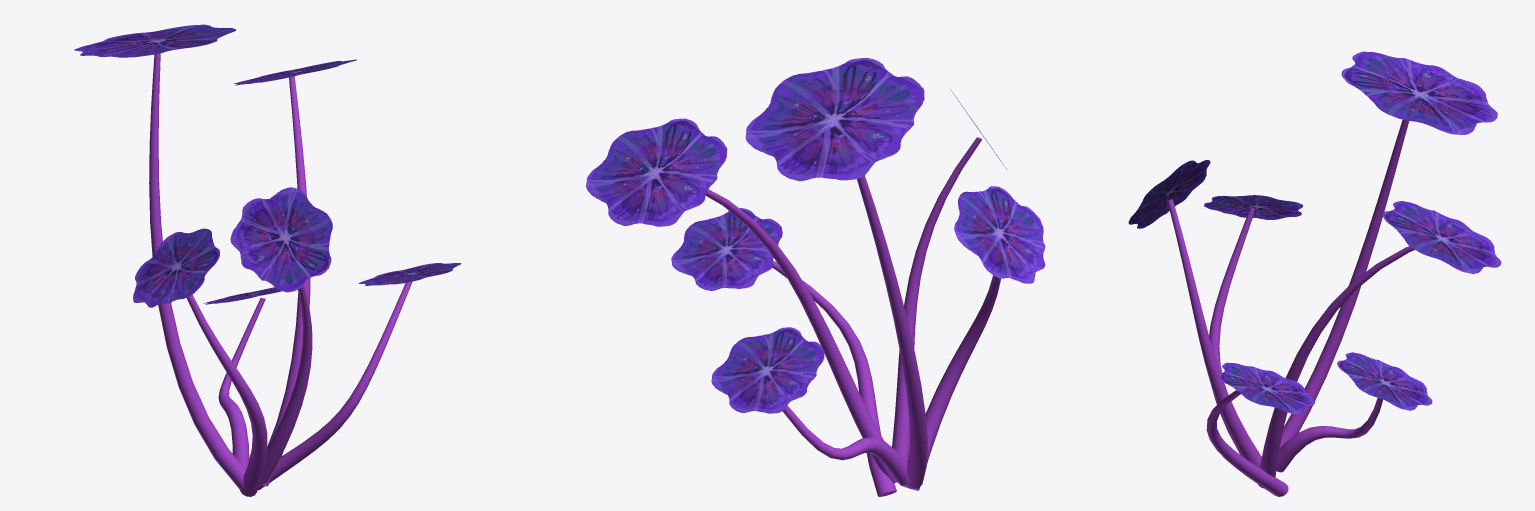
The model's file is plante_violette4.fbx.
3 views of the same model, side by side, from view 1: azimuth 30°, elevation 25°; view 2: azimuth 150°, elevation 25°; view 3: azimuth 270°, elevation 25° (orthographic). The views are drawn at different scales.
Parts seen in each view (by area): view 1: feuille4.022, BezierCurve.019, feuille4.023, feuille4.018, BezierCurve.018, BezierCurve.021, BezierCurve.023, BezierCurve.020, BezierCurve.022, feuille4.021, feuille4.020; view 2: feuille4.018, feuille4.020, feuille4.019, feuille4.023, feuille4.021, BezierCurve.019, BezierCurve.020, BezierCurve.023, BezierCurve.018, BezierCurve.021, BezierCurve.022; view 3: feuille4.018, feuille4.020, BezierCurve.019, BezierCurve.023, feuille4.019, BezierCurve.020, feuille4.021, feuille4.022, BezierCurve.021, feuille4.023, BezierCurve.022, BezierCurve.018.
Part boxes in pixels (left/top/right/bottom): feuille4.022: left=230, top=187, right=332, bottom=292; BezierCurve.019: left=149, top=53, right=246, bottom=489; feuille4.023: left=133, top=228, right=219, bottom=307; feuille4.018: left=74, top=24, right=235, bottom=57; BezierCurve.018: left=187, top=294, right=267, bottom=496; BezierCurve.021: left=258, top=281, right=412, bottom=490; BezierCurve.023: left=259, top=286, right=312, bottom=487; BezierCurve.020: left=262, top=76, right=310, bottom=486; BezierCurve.022: left=218, top=298, right=265, bottom=469; feuille4.021: left=359, top=263, right=461, bottom=285; feuille4.020: left=233, top=59, right=356, bottom=85; feuille4.018: left=745, top=58, right=924, bottom=181; feuille4.020: left=586, top=118, right=727, bottom=226; feuille4.019: left=711, top=327, right=824, bottom=413; feuille4.023: left=954, top=186, right=1045, bottom=283; feuille4.021: left=671, top=208, right=782, bottom=290; BezierCurve.019: left=857, top=175, right=927, bottom=489; BezierCurve.020: left=664, top=172, right=896, bottom=483; BezierCurve.023: left=890, top=137, right=981, bottom=478; BezierCurve.018: left=900, top=275, right=1000, bottom=490; BezierCurve.021: left=772, top=260, right=896, bottom=496; BezierCurve.022: left=782, top=405, right=910, bottom=484; feuille4.018: left=1341, top=51, right=1497, bottom=134; feuille4.020: left=1382, top=201, right=1501, bottom=273; BezierCurve.019: left=1279, top=119, right=1409, bottom=448; BezierCurve.023: left=1167, top=199, right=1261, bottom=467; feuille4.019: left=1337, top=352, right=1432, bottom=410; BezierCurve.020: left=1258, top=246, right=1414, bottom=488; feuille4.021: left=1218, top=362, right=1314, bottom=413; feuille4.022: left=1128, top=160, right=1210, bottom=228; BezierCurve.021: left=1206, top=390, right=1288, bottom=496; feuille4.023: left=1204, top=195, right=1302, bottom=219; BezierCurve.022: left=1276, top=398, right=1383, bottom=472; BezierCurve.018: left=1209, top=207, right=1255, bottom=455.
Bounding box in the file's own units: 141 × 161 × 143.
Materials: 2 (1 with a texture image).
